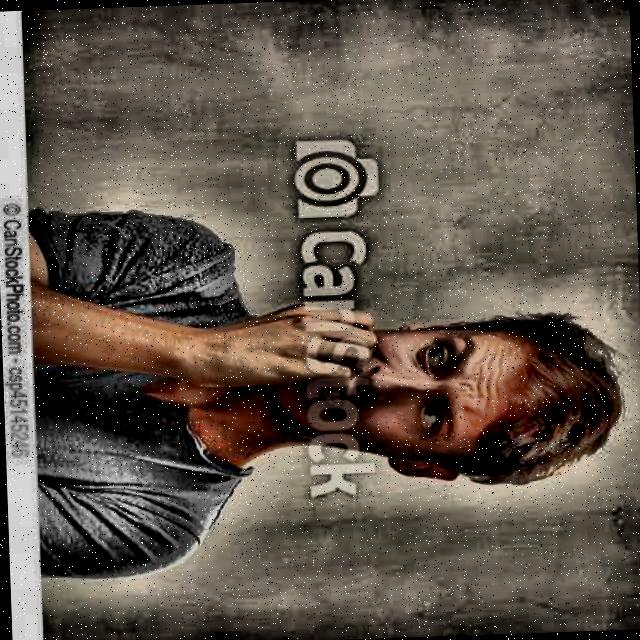fear: (254, 301, 627, 495)
